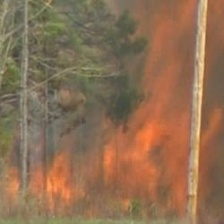fire: (15, 120, 217, 207)
